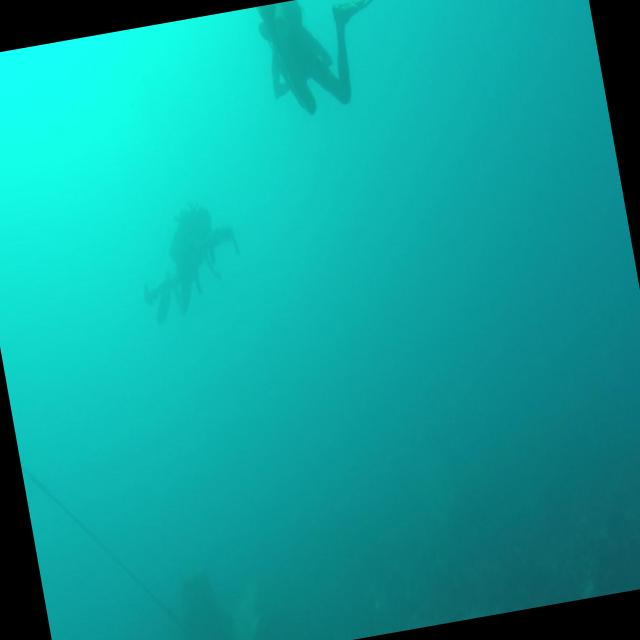human: (253, 0, 414, 121), (128, 192, 250, 326)
